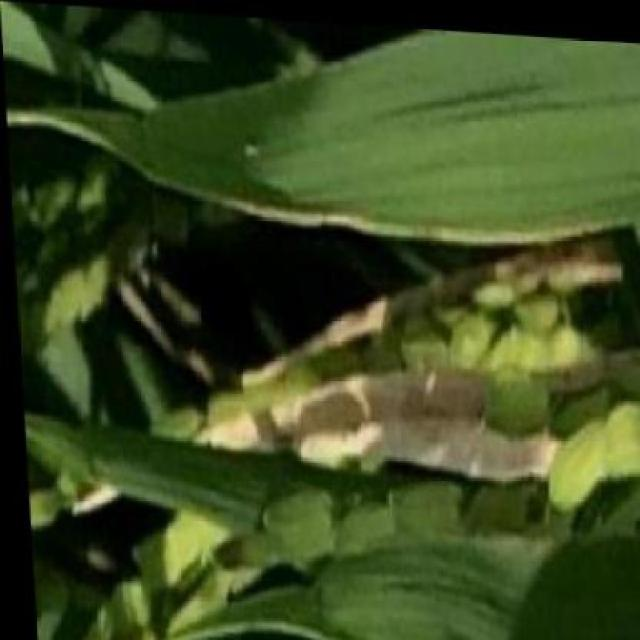Brown_Spot: (189, 31, 640, 254)
